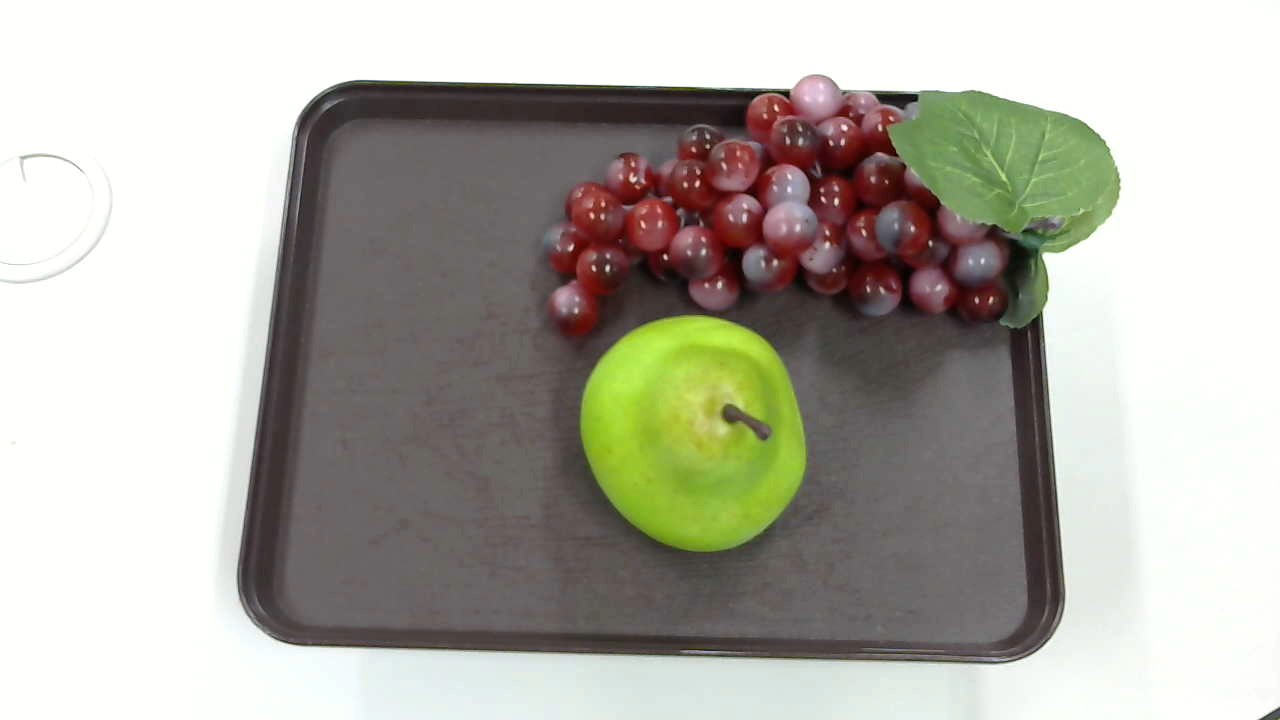grape: (535, 74, 1122, 335)
green pear: (576, 313, 808, 551)
